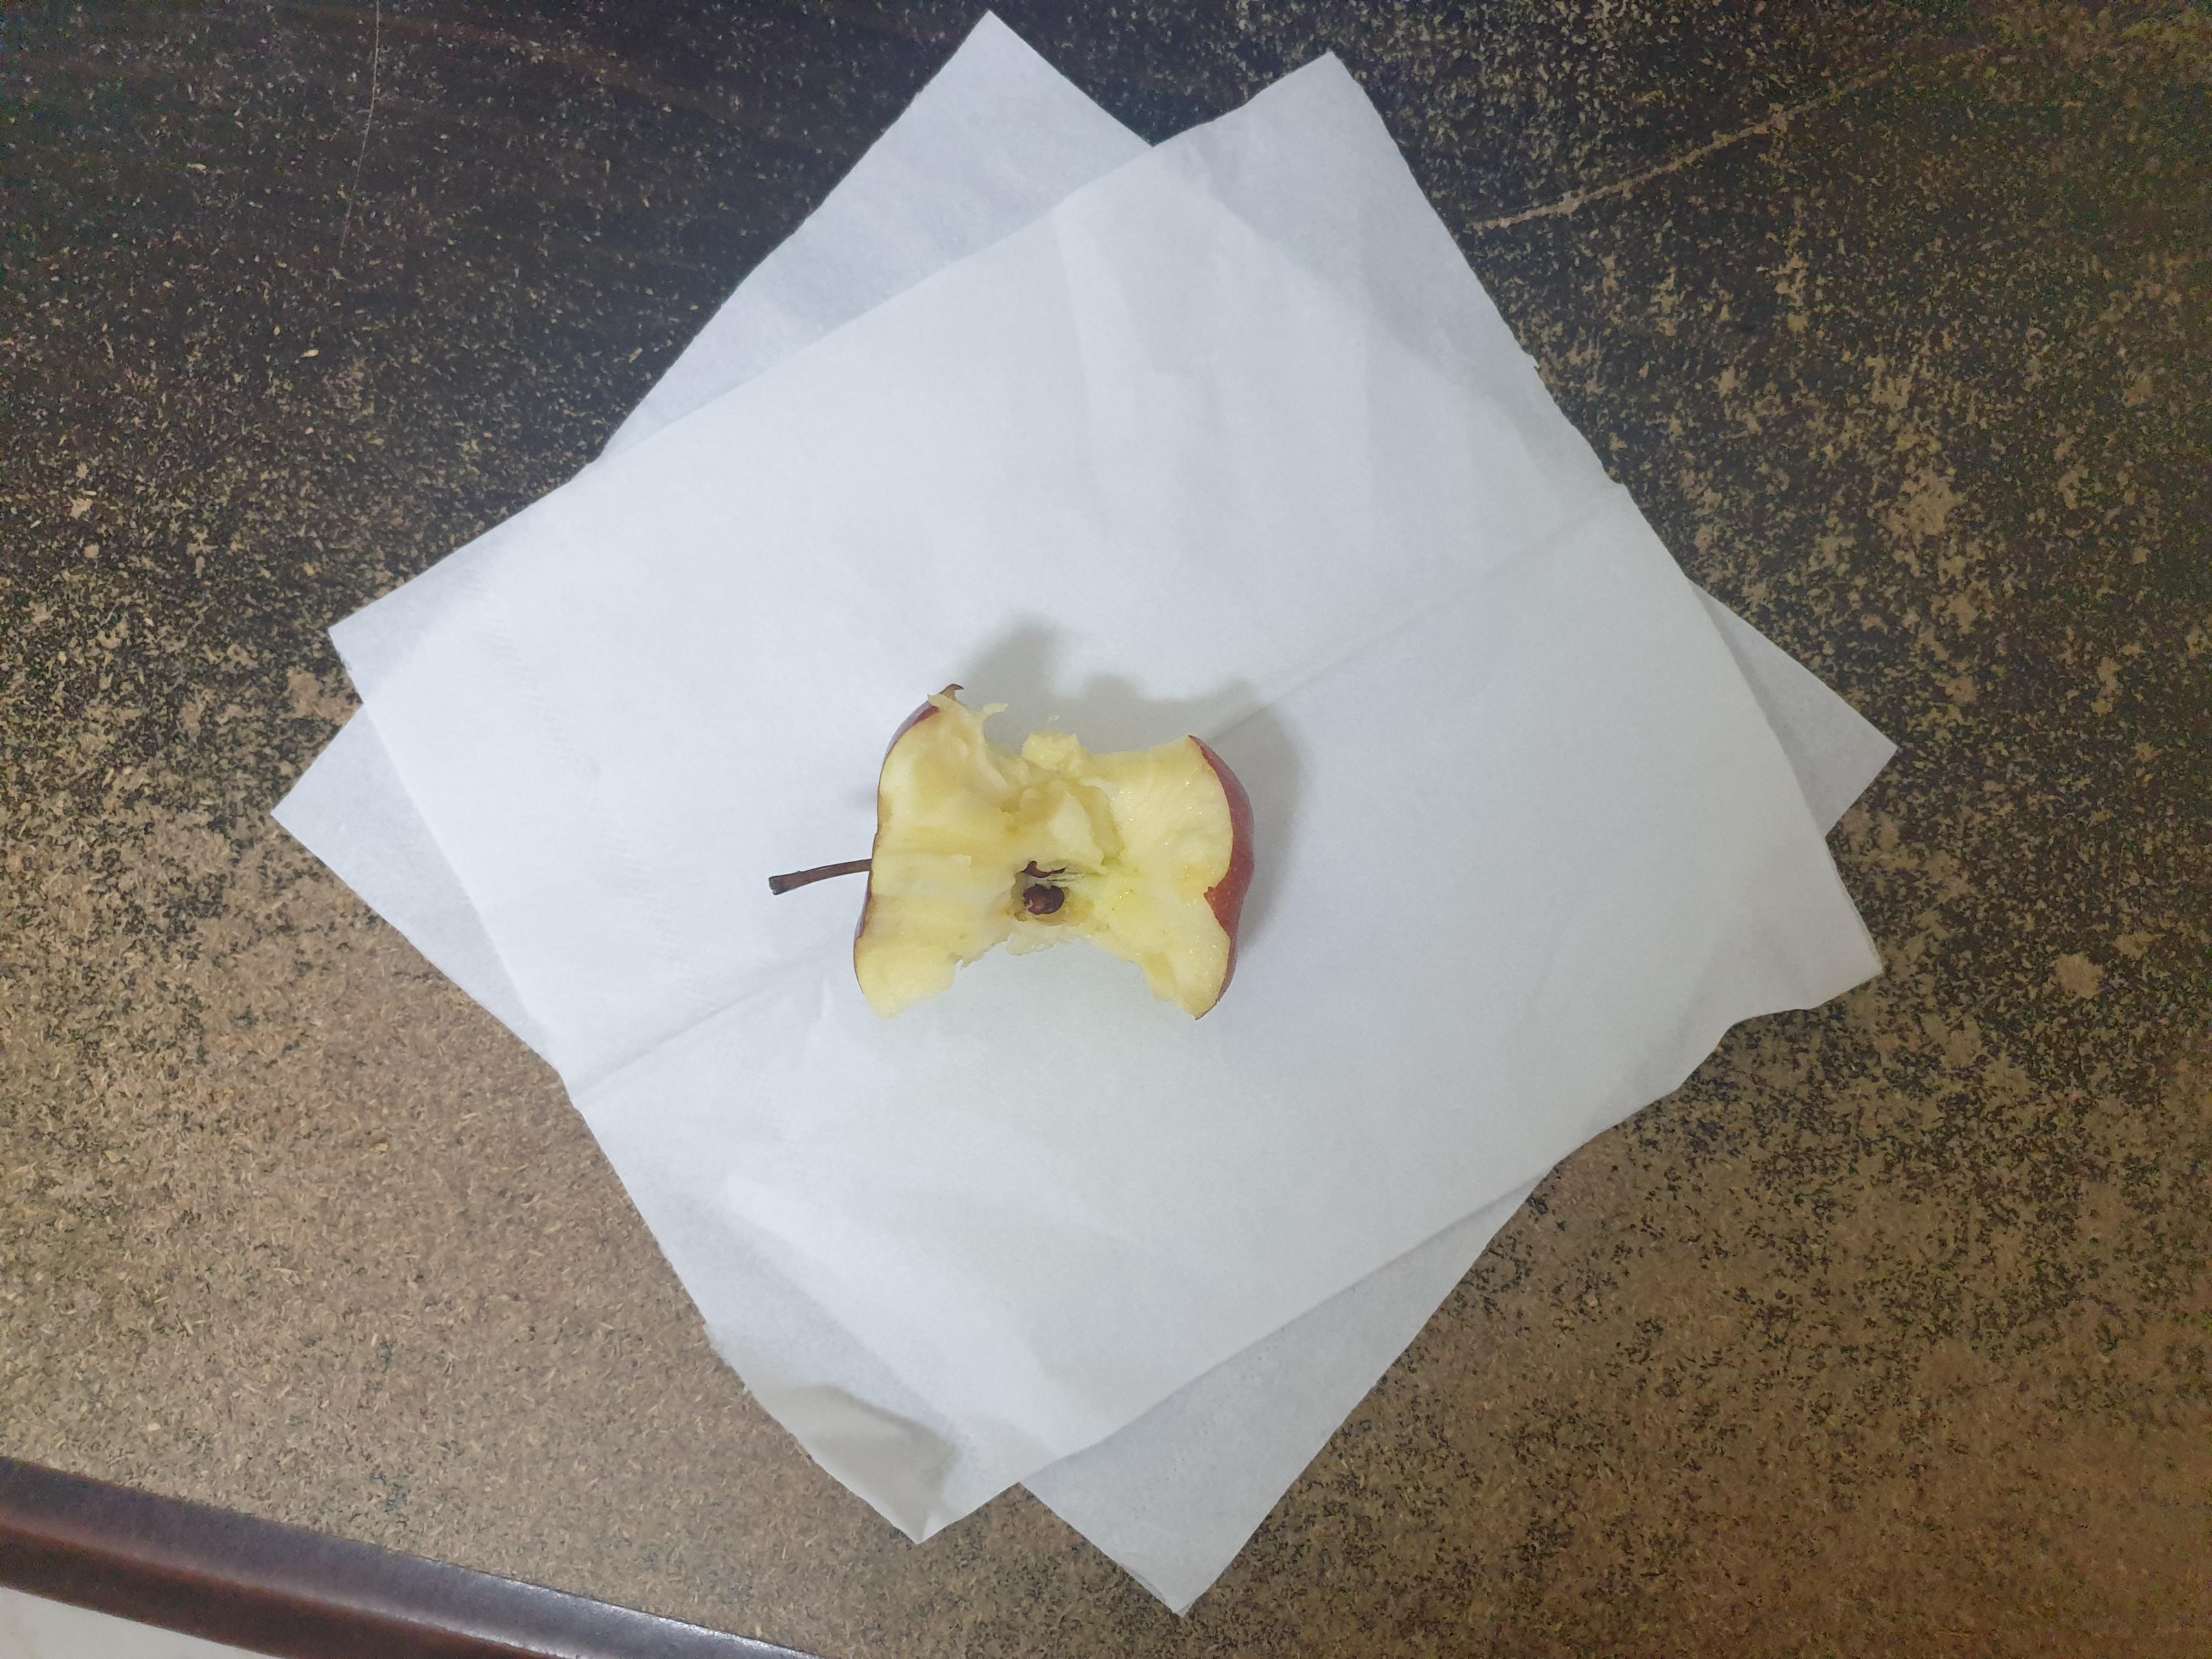Apple: (772, 673, 1291, 1035)
